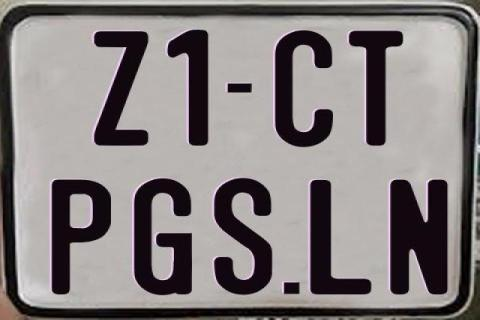0: (167, 27, 208, 145)
C: (273, 29, 331, 145)
G: (134, 178, 194, 296)
L: (310, 179, 375, 295)
N: (390, 178, 448, 298)
P: (52, 177, 117, 295)
S: (212, 176, 270, 294)
T: (349, 29, 404, 145)
Z: (93, 30, 153, 146)
